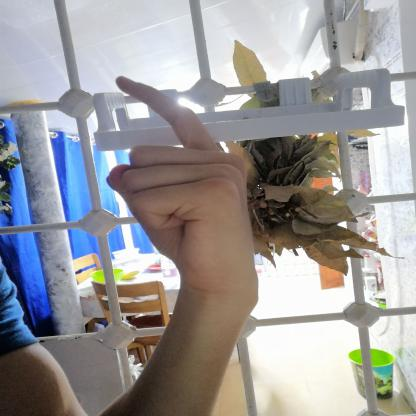RAA: (88, 60, 272, 301)
